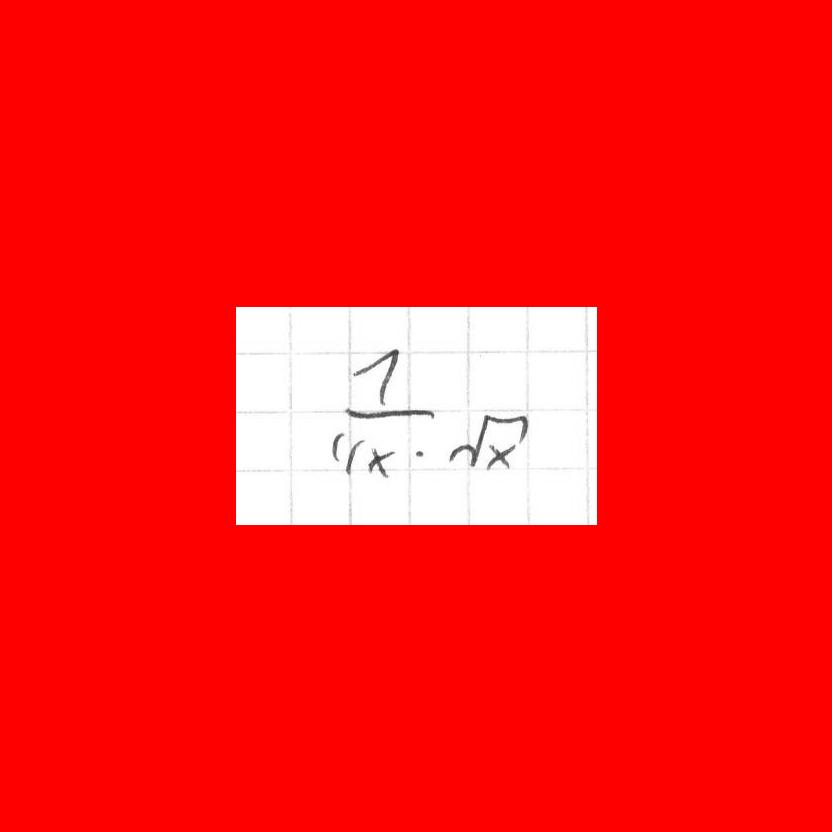Char: (445, 410, 528, 469), (347, 343, 407, 407), (340, 404, 438, 422), (366, 441, 393, 479), (484, 440, 516, 470), (344, 434, 364, 475), (329, 429, 345, 464), (411, 444, 429, 463)
